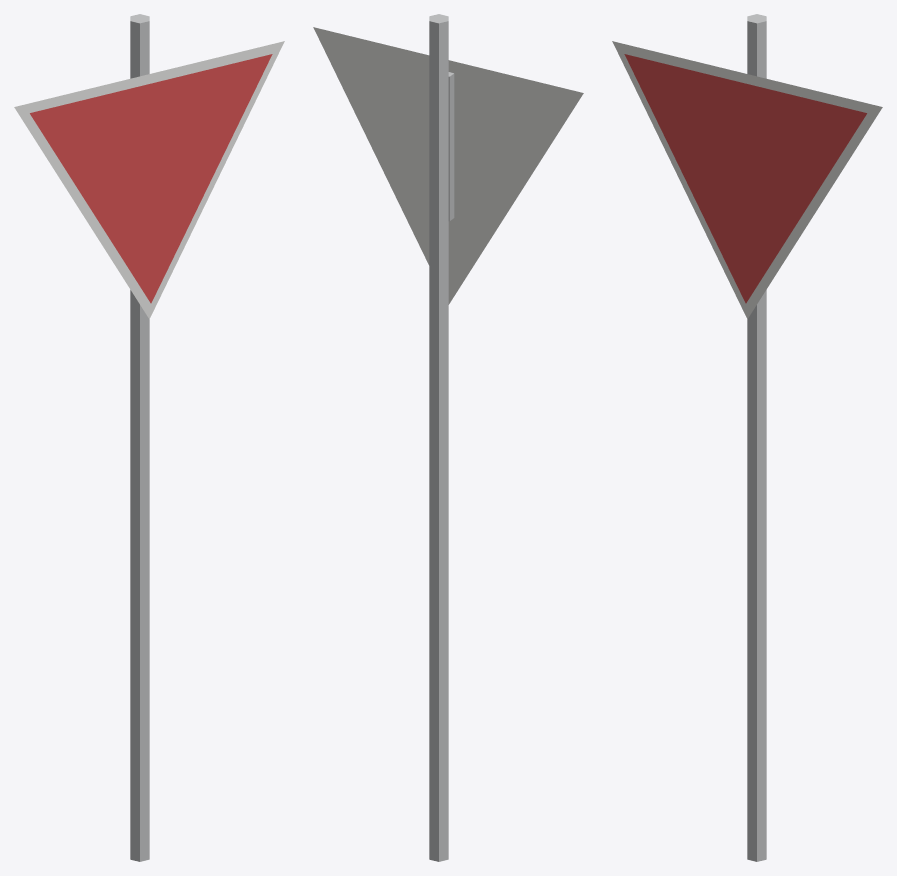
Rendered from HK_Sign_Stop.glb.
The picture shows the model from 3 angles, left to right: view 1: azimuth 30°, elevation 25°; view 2: azimuth 150°, elevation 25°; view 3: azimuth 330°, elevation 25°; orthographic projection.
Parts seen in each view (by area): view 1: HK_Sign_Stop; view 2: HK_Sign_Stop; view 3: HK_Sign_Stop.
Boxes of the visible parts, x1,y1,x2,y2 form: HK_Sign_Stop: [14, 14, 284, 861]; HK_Sign_Stop: [313, 14, 583, 861]; HK_Sign_Stop: [612, 14, 882, 861].
Size of the model in its own units: 0.98 by 2.9 by 0.1003.
